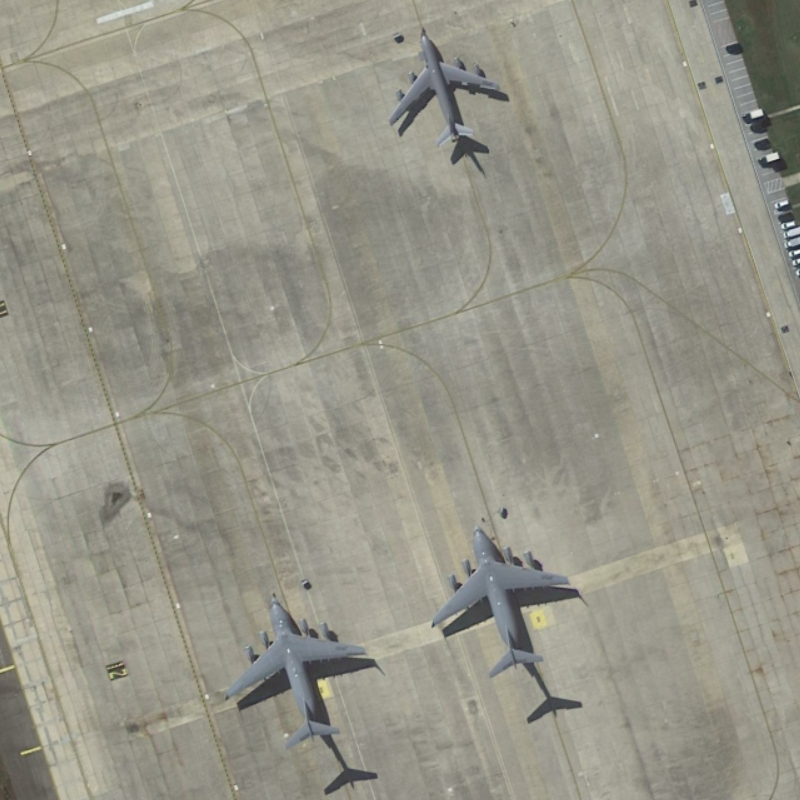A14: (384, 22, 510, 157)
A3: (219, 586, 372, 751), (421, 519, 571, 678)
